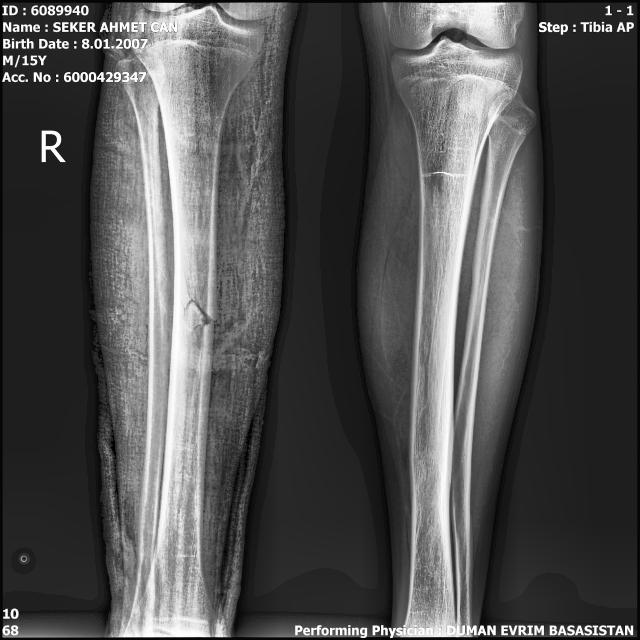Fracture: (169, 272, 222, 352)
